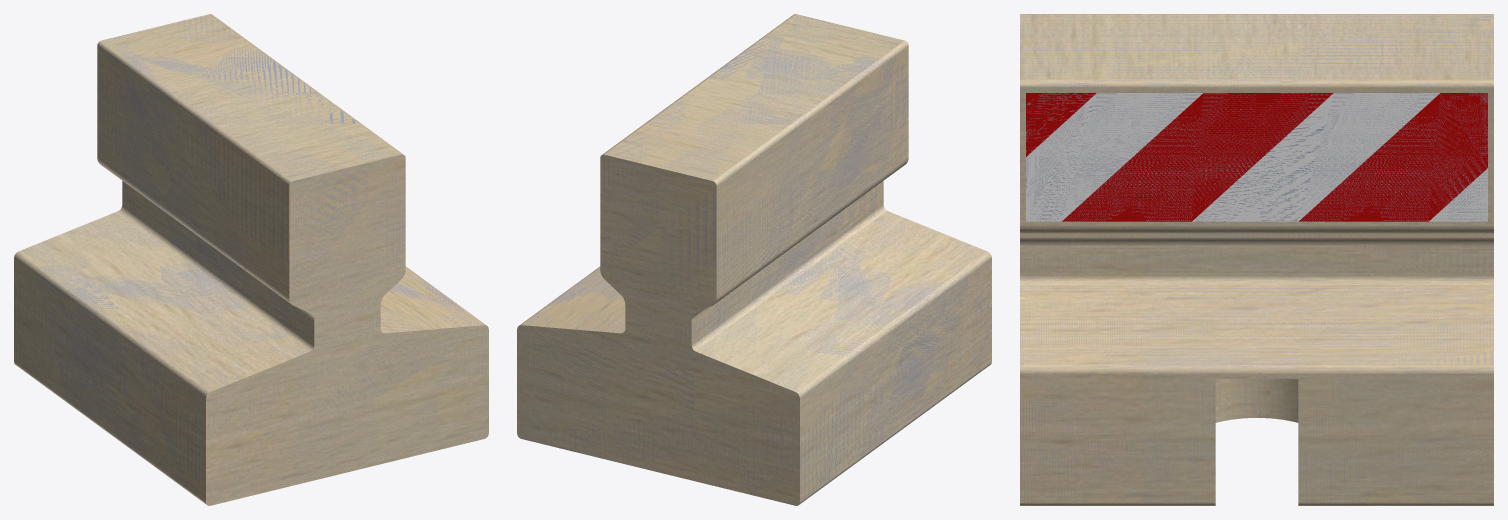
3 renders of one model, left to right at view 1: azimuth 30°, elevation 25°; view 2: azimuth 150°, elevation 25°; view 3: azimuth 270°, elevation 25°, orthographic. The views are drawn at different scales.
Parts seen in each view (by area): view 1: SketchUp; view 2: SketchUp; view 3: SketchUp (×7).
Part boxes in pixels (bbox=[...]): SketchUp: bbox=[14, 14, 488, 505]; SketchUp: bbox=[517, 14, 991, 505]; SketchUp (×7): bbox=[1020, 14, 1493, 505].
Bounding box in the file's own units: 1.34 × 1.57 × 1.38.
